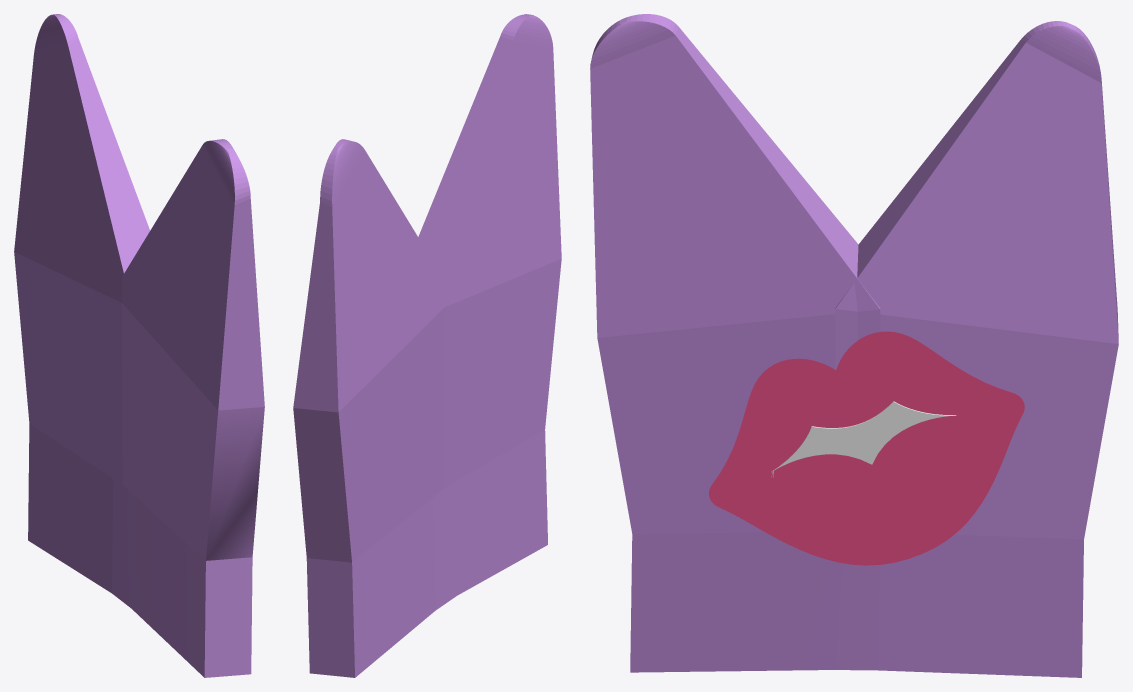
Rendered from Tshirt_Kiss_Purple.fbx.
3 renders of one model, left to right at view 1: azimuth 30°, elevation 25°; view 2: azimuth 150°, elevation 25°; view 3: azimuth 270°, elevation 25°, orthographic. The views are drawn at different scales.
Visible parts, largest first — view 1: Plane.006; view 2: Plane.006; view 3: Plane.006, Curve.001, Curve.005.
Part boxes in pixels (bbox=[...]): Plane.006: bbox=[14, 14, 264, 677]; Plane.006: bbox=[293, 14, 561, 677]; Plane.006: bbox=[590, 14, 1118, 677]; Curve.001: bbox=[709, 331, 1024, 565]; Curve.005: bbox=[771, 401, 956, 477].
Bounding box in the file's own units: 19.73 × 138 × 103.
